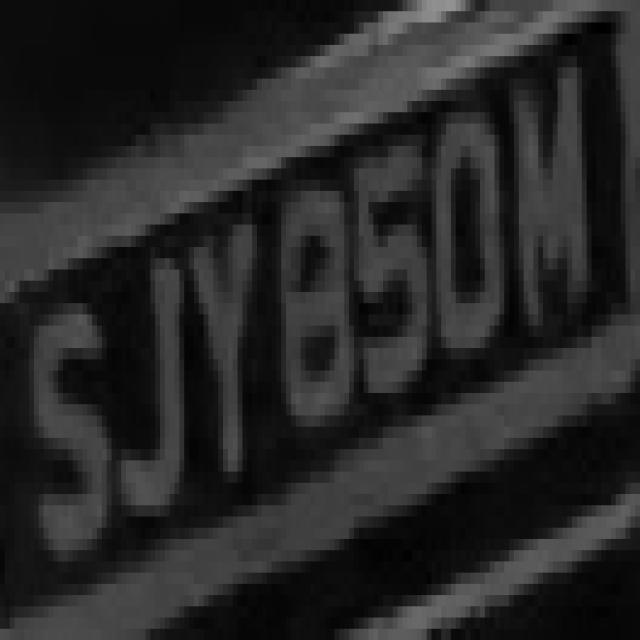0: (412, 90, 509, 404)
5: (339, 101, 436, 415)
8: (271, 134, 354, 472)
J: (102, 213, 184, 539)
M: (494, 56, 611, 382)
S: (29, 270, 112, 572)
Y: (184, 191, 272, 505)
